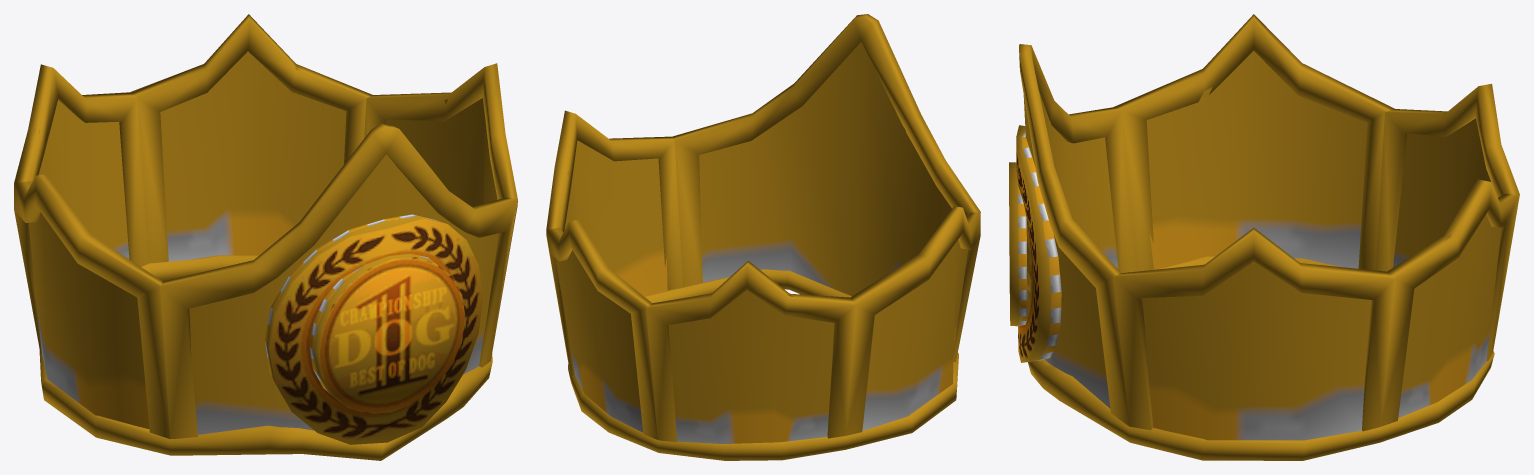
Rendered from F2_Item_Headgear_Champ_S.dae.
3 renders of one model, left to right at view 1: azimuth 30°, elevation 25°; view 2: azimuth 150°, elevation 25°; view 3: azimuth 270°, elevation 25°, orthographic. The views are drawn at different scales.
Parts seen in each view (by area): view 1: _0_0_node; view 2: _0_0_node; view 3: _0_0_node.
Boxes of the visible parts, x1=… form: _0_0_node: x1=14, y1=14, x2=517, y2=460; _0_0_node: x1=546, y1=14, x2=980, y2=460; _0_0_node: x1=1009, y1=14, x2=1519, y2=460.
Size of the model in its own units: 1.5 by 1.05 by 1.48.
1 material, 1 textured.
